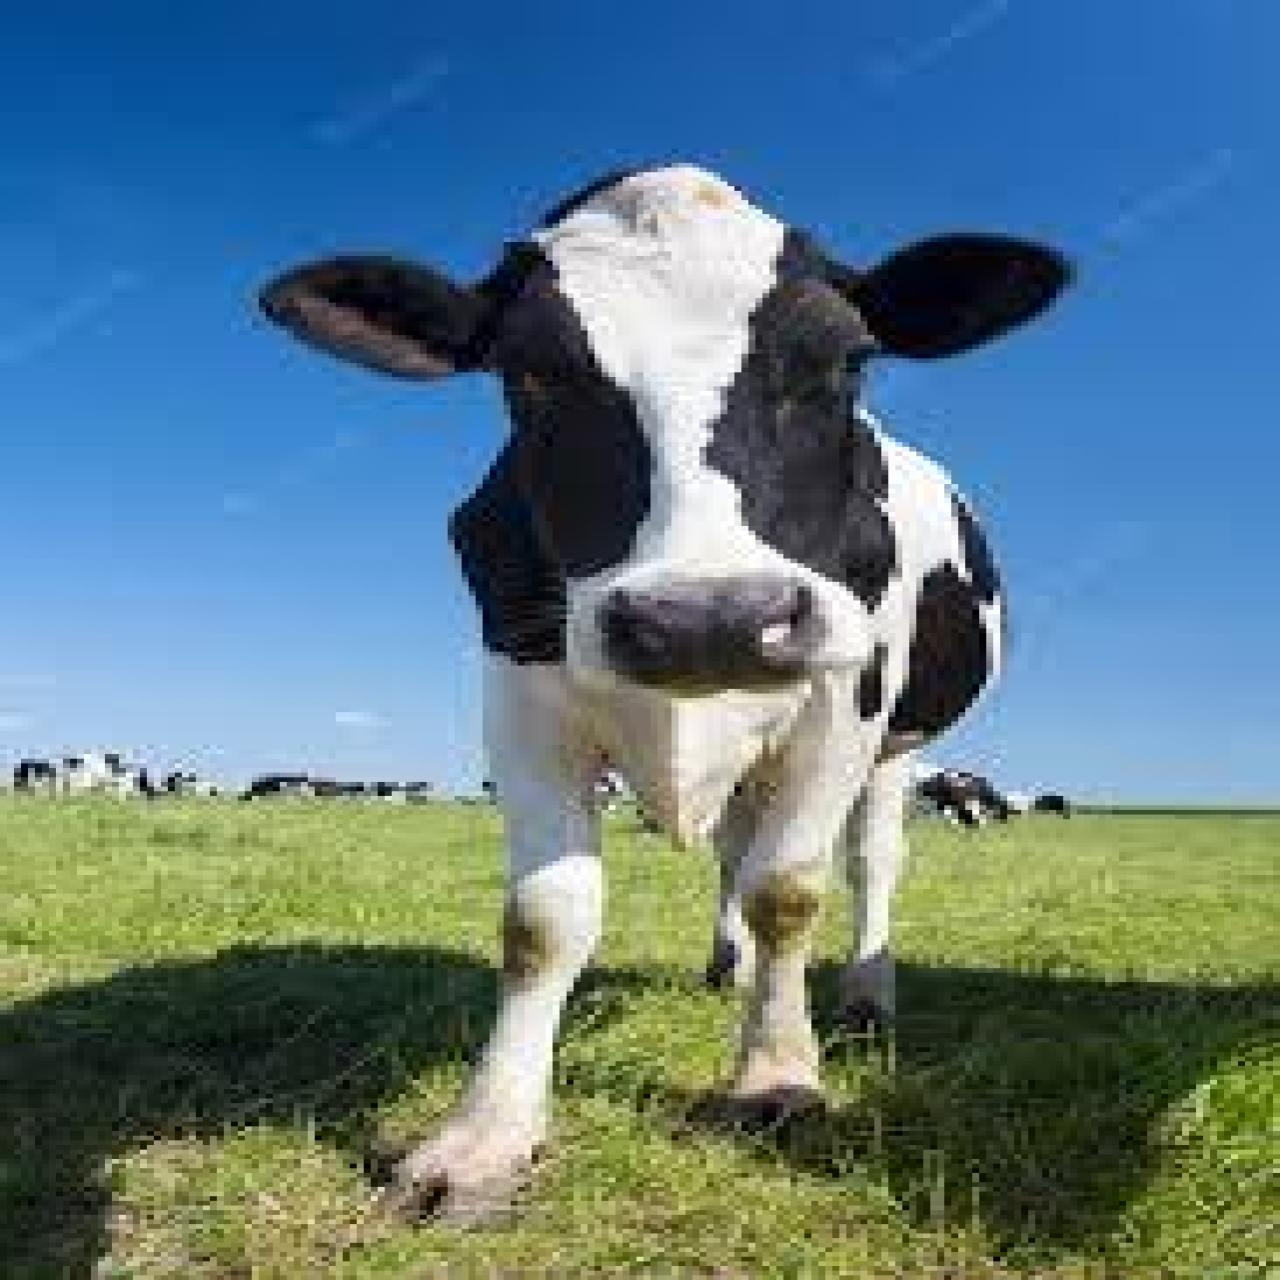cow: (259, 154, 1077, 1233), (908, 756, 1035, 831), (7, 747, 139, 803)
